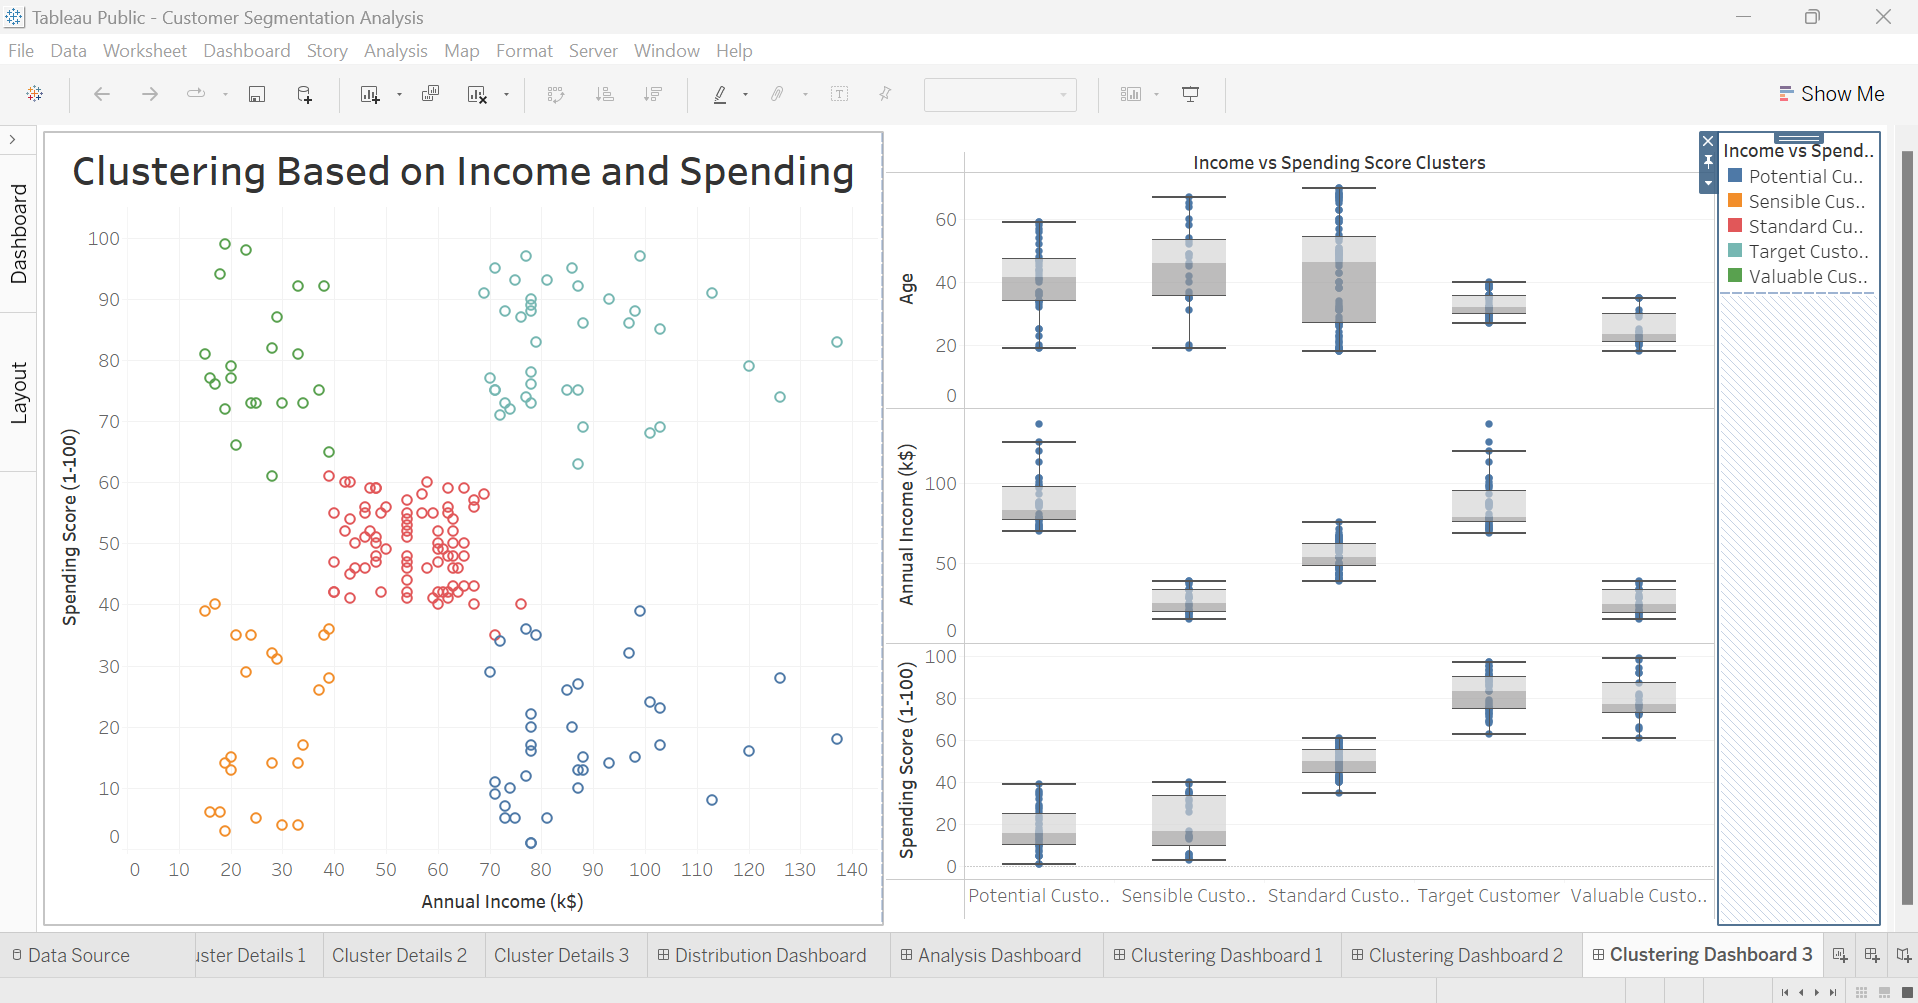

Layout of this report page (visuals, bound fields, positions):
{"tool":"tableau","page":{"name":"Clustering Dashboard 3","canvas":[1000,1000],"units":"permille","ordinal":3},"visuals":[{"type":"worksheet","title":"Analysis 3","mark":"Automatic","rows":["Spending Score (1-100)"],"cols":["Annual Income (k$)"],"box":[4.3,9.9,452.4,980.2]},{"type":"worksheet","title":"Cluster Details 3","mark":"Circle","rows":["Age","Annual Income (k$)","Spending Score (1-100)"],"box":[456.7,9.9,452.5,980.2]},{"type":"legend","title":"Analysis 3","param":"[federated.03849fk1oqn5g5192y5811f0itua].[Annual Income (k$) & Spending Score (1","box":[909.2,9.9,86.5,197]}]}

Visuals, with their boxes on the dashboard's canvas, which has no fixed pixel size, in thousandths of its width and height (x1, y1, x2, y2). These are canvas units, not pixel positions in the 1918x1003 screenshot, which may show the page scaled, cropped or inside an application window:
"Analysis 3" worksheet: 4, 10, 457, 990
"Cluster Details 3" worksheet (Circle marks): 457, 10, 909, 990
"Analysis 3" legend: 909, 10, 996, 207
